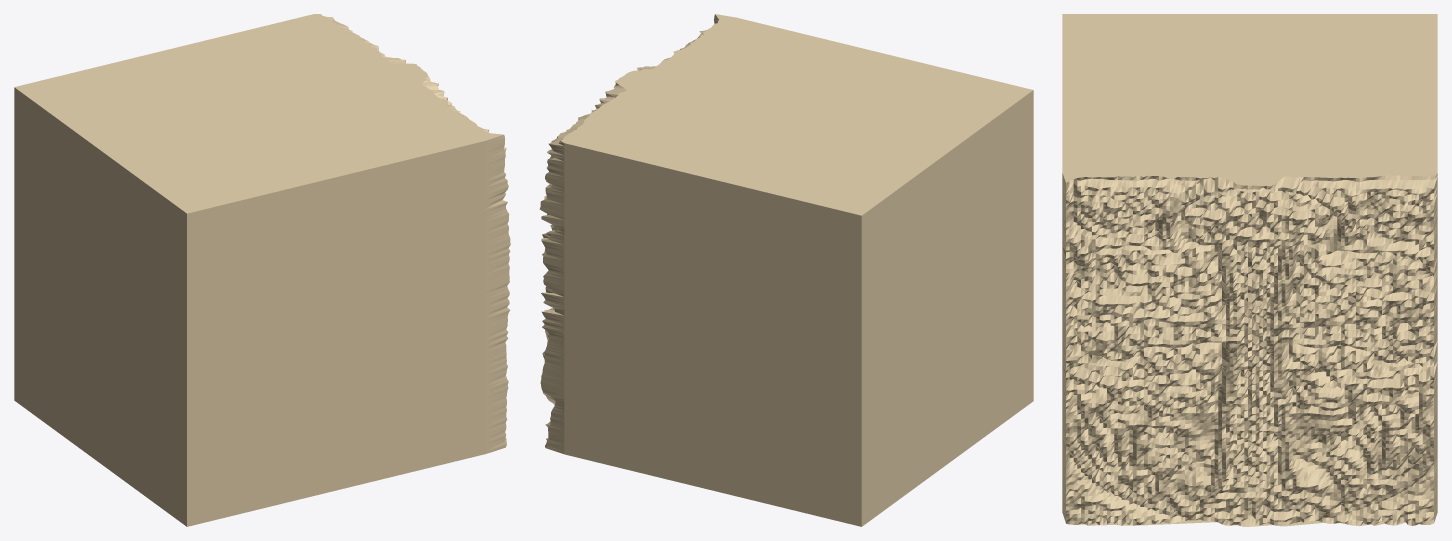
Rendered from cross1.png - copia.obj.
3 views of the same model, side by side, from view 1: azimuth 30°, elevation 25°; view 2: azimuth 150°, elevation 25°; view 3: azimuth 270°, elevation 25° (orthographic). The views are drawn at different scales.
Visible parts, largest first — view 1: Cube; view 2: Cube; view 3: Cube.
Boxes of the visible parts, bbox=[...] form: Cube: bbox=[14, 14, 510, 526]; Cube: bbox=[539, 14, 1033, 526]; Cube: bbox=[1062, 14, 1437, 526].
Bounding box in the file's own units: 1.1 × 1 × 1.
